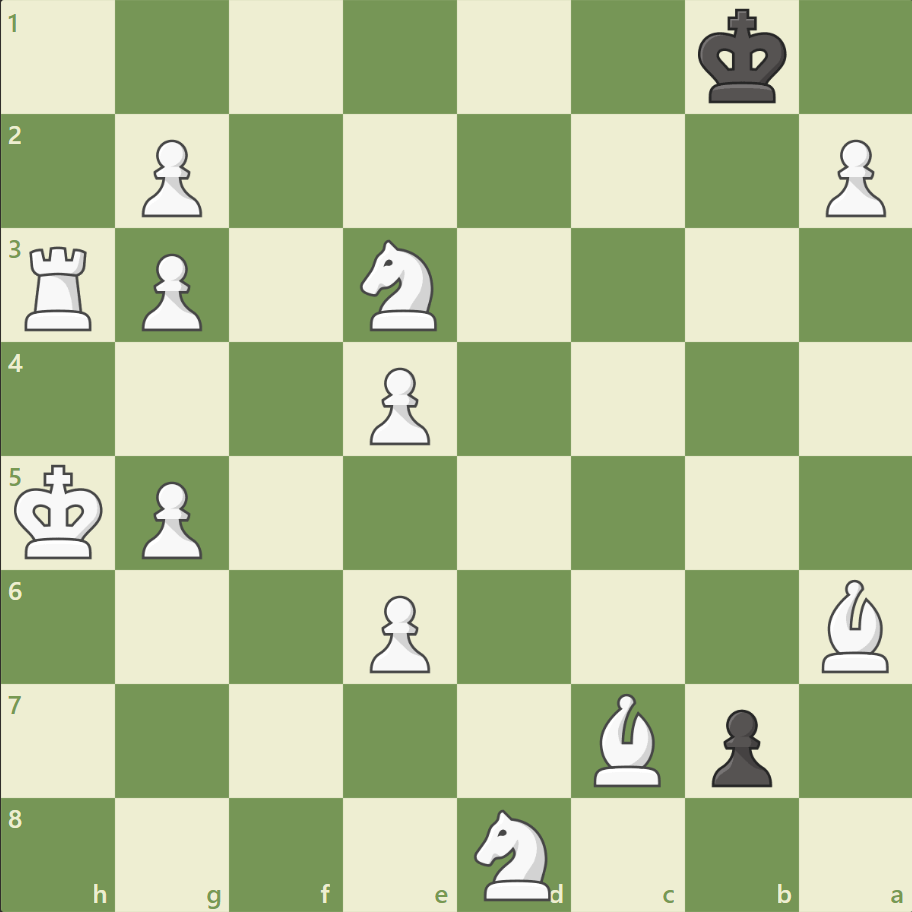B: (585, 687, 669, 790), (812, 574, 896, 676)
K: (11, 458, 111, 566)
N: (351, 234, 449, 337), (465, 802, 562, 904)
P: (133, 473, 208, 564), (133, 246, 208, 337), (133, 132, 208, 223), (361, 586, 435, 677), (361, 359, 435, 450), (815, 132, 889, 223)
R: (19, 239, 102, 336)
k: (692, 4, 792, 112)
p: (701, 700, 776, 791)
